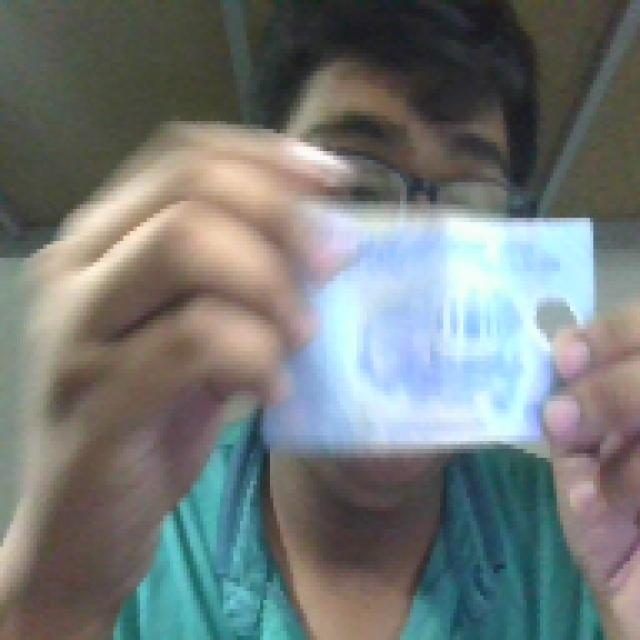20 000 VND: (253, 200, 600, 462)
